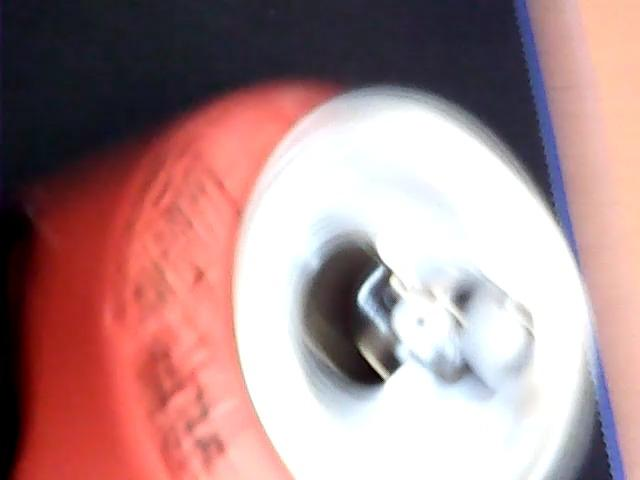coke: (0, 97, 596, 475)
